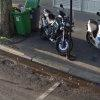Motorcycle: (39, 1, 82, 64)
